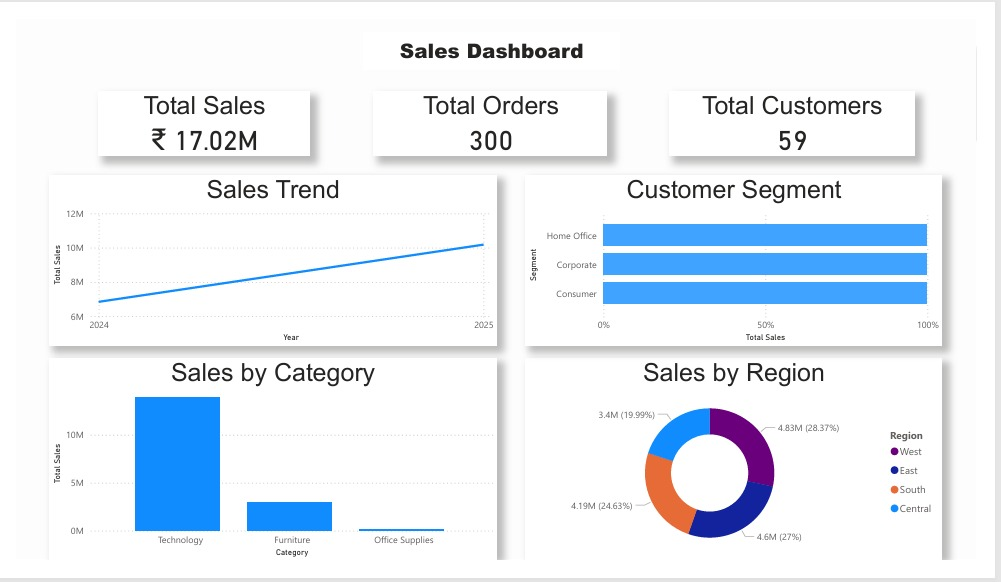

The page's visual inventory and layout, read from the dashboard file:
{"tool":"powerbi","page":{"name":"Page 1","canvas":[1280,720],"ordinal":0},"visuals":[{"type":"card","title":"Total Sales","fields":{"Values":["Customers.Total Sales"]},"box":[109,96,282,86],"z":0},{"type":"card","title":"Total Customers","fields":{"Values":["Customers.Total Customers"]},"box":[870,96,327,86],"z":1},{"type":"card","title":"Total Orders","fields":{"Values":["Customers.Total Orders"]},"box":[476,96,312,86],"z":2},{"type":"lineChart","title":"Sales Trend","fields":{"Category":["Orders.Date.Variation.Date Hierarchy.Year","Orders.Date.Variation.Date Hierarchy.Quarter","Orders.Date.Variation.Date Hierarchy.Month","Orders.Date.Variation.Date Hierarchy.Day"],"Y":["Customers.Total Sales"]},"box":[43,207,597,227],"z":3},{"type":"clusteredColumnChart","title":"Sales by Category","fields":{"Category":["Products.Category"],"Y":["Customers.Total Sales"]},"box":[43,451,597,269],"z":4},{"type":"donutChart","title":"Sales by Region","fields":{"Category":["Orders.Region"],"Y":["Customers.Total Sales"]},"box":[678,451,556,269],"z":5},{"type":"hundredPercentStackedBarChart","title":"Customer Segment","fields":{"Category":["Customers.Segment"],"Y":["Customers.Total Sales"]},"box":[678,207,556,227],"z":6},{"type":"textbox","box":[462,17,342,50],"z":7}]}

Visuals, with their boxes on the page's 1280x720 design canvas (x1, y1, x2, y2). These are canvas units, not pixel positions in the 1001x582 screenshot, which may show the page scaled, cropped or inside an application window:
"Total Sales" card: <bbox>109, 96, 391, 182</bbox>
"Total Customers" card: <bbox>870, 96, 1197, 182</bbox>
"Total Orders" card: <bbox>476, 96, 788, 182</bbox>
"Sales Trend" lineChart: <bbox>43, 207, 640, 434</bbox>
"Sales by Category" clusteredColumnChart: <bbox>43, 451, 640, 720</bbox>
"Sales by Region" donutChart: <bbox>678, 451, 1234, 720</bbox>
"Customer Segment" hundredPercentStackedBarChart: <bbox>678, 207, 1234, 434</bbox>
textbox: <bbox>462, 17, 804, 67</bbox>
